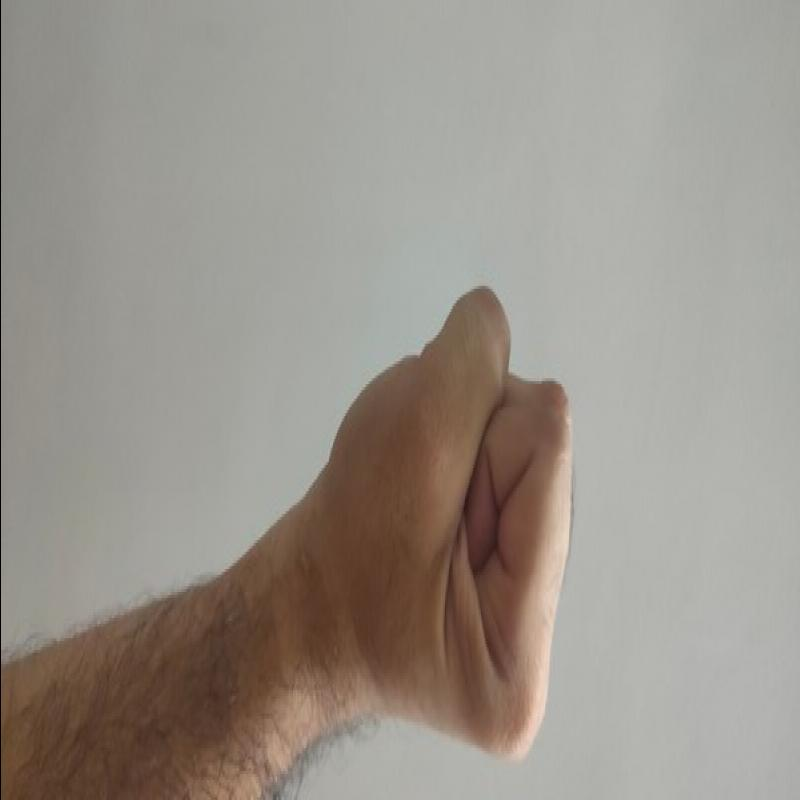Mushti: (308, 270, 587, 775)
